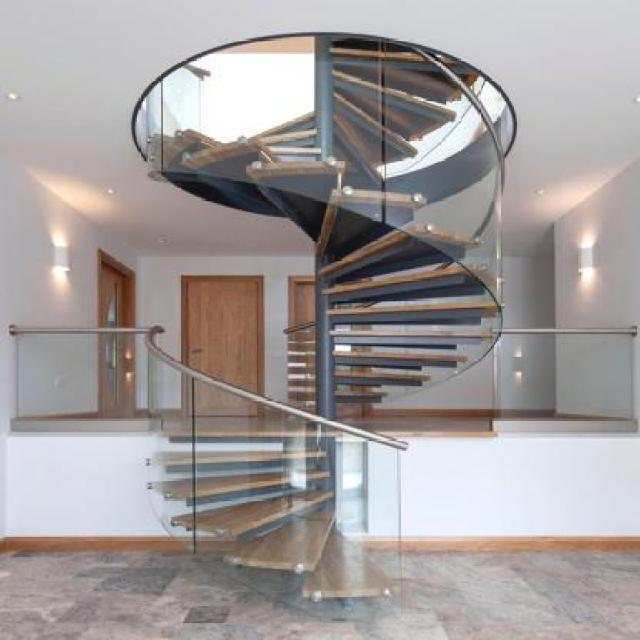stair: (130, 45, 516, 602)
